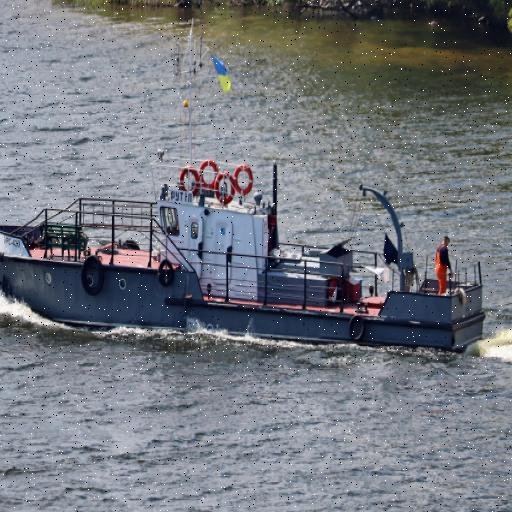tugboat: (1, 134, 493, 369)
